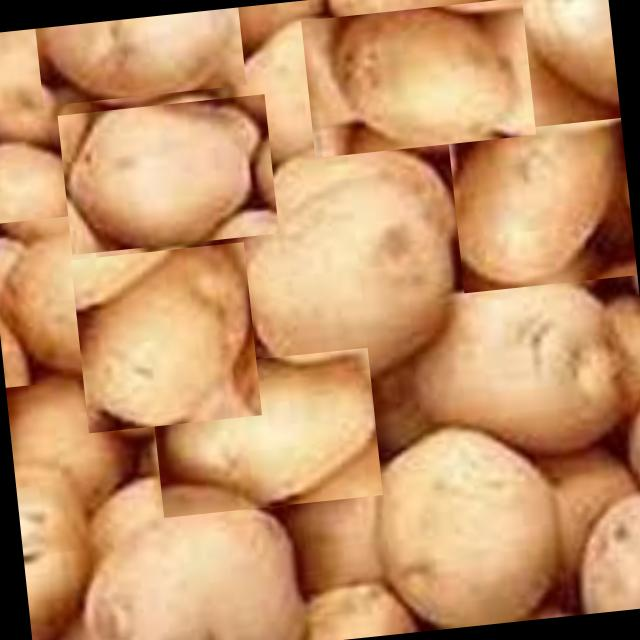Potato: (230, 130, 472, 392), (398, 249, 640, 457), (371, 421, 568, 634), (148, 348, 382, 518), (63, 486, 313, 640), (300, 0, 535, 157), (70, 242, 262, 432), (58, 93, 278, 254), (447, 118, 637, 292), (35, 7, 246, 106), (0, 213, 109, 387)
